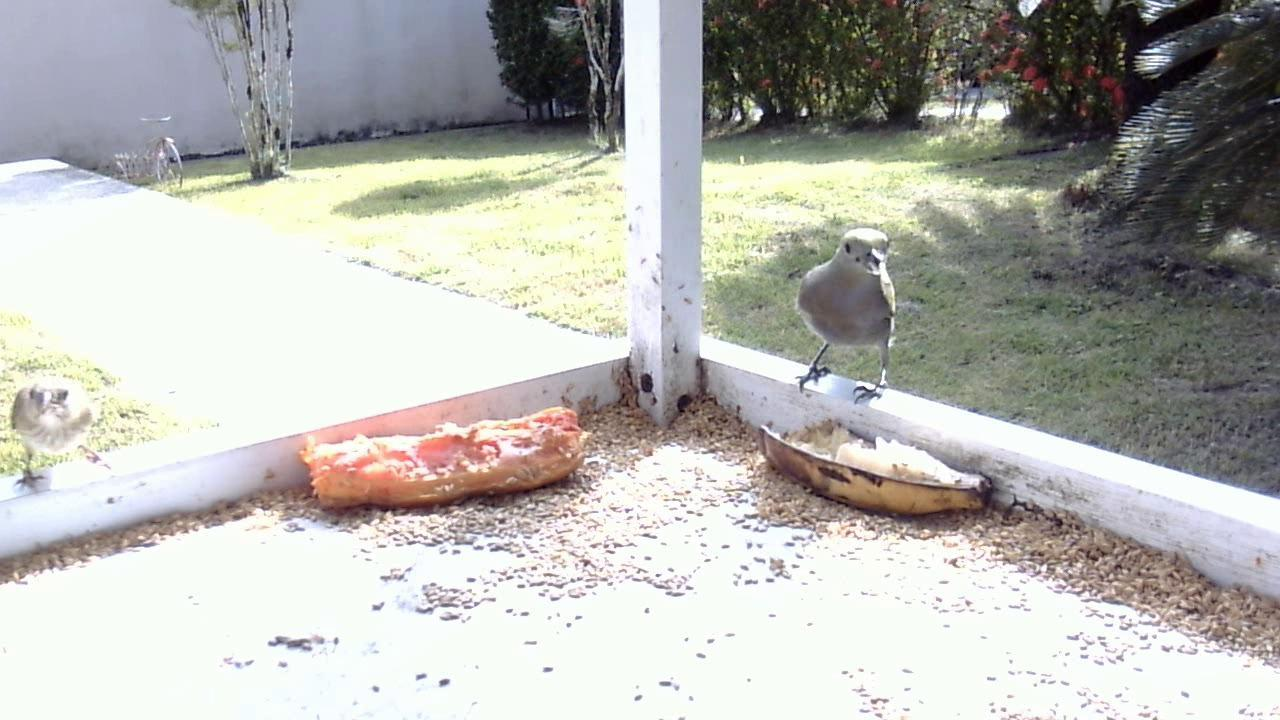sanhaco_do_coqueiro: (783, 223, 900, 409)
